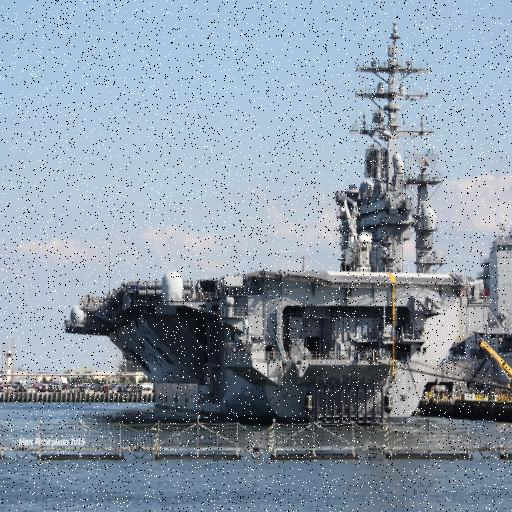Portanaves: (59, 17, 512, 427)
